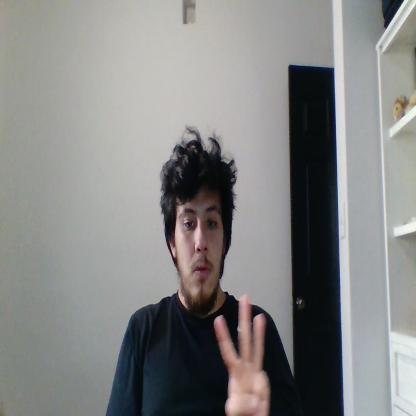W: (214, 292, 269, 415)
